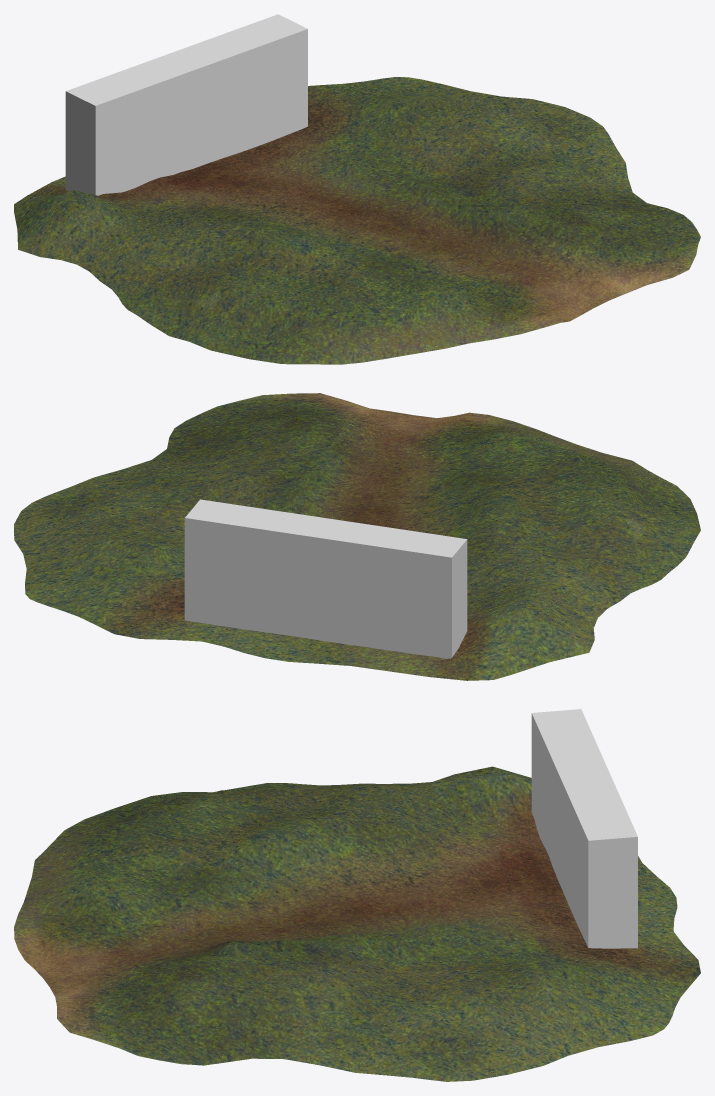
Rendered from LandScape_firstScene.fbx.
The picture shows the model from 3 angles, top to bottom: view 1: azimuth 30°, elevation 25°; view 2: azimuth 150°, elevation 25°; view 3: azimuth 270°, elevation 25°; orthographic projection. The views are drawn at different scales.
Parts seen in each view (by area): view 1: Plane, Cube; view 2: Plane, Cube; view 3: Plane, Cube.
Part boxes in pixels (left/top/right/bottom): Plane: left=14, top=77, right=700, bottom=364; Cube: left=65, top=14, right=307, bottom=195; Plane: left=14, top=393, right=700, bottom=680; Cube: left=184, top=499, right=467, bottom=658; Plane: left=14, top=766, right=700, bottom=1081; Cube: left=531, top=709, right=637, bottom=948.
Size of the model in its own units: 156 by 28.37 by 148.
1 material, 1 textured.
